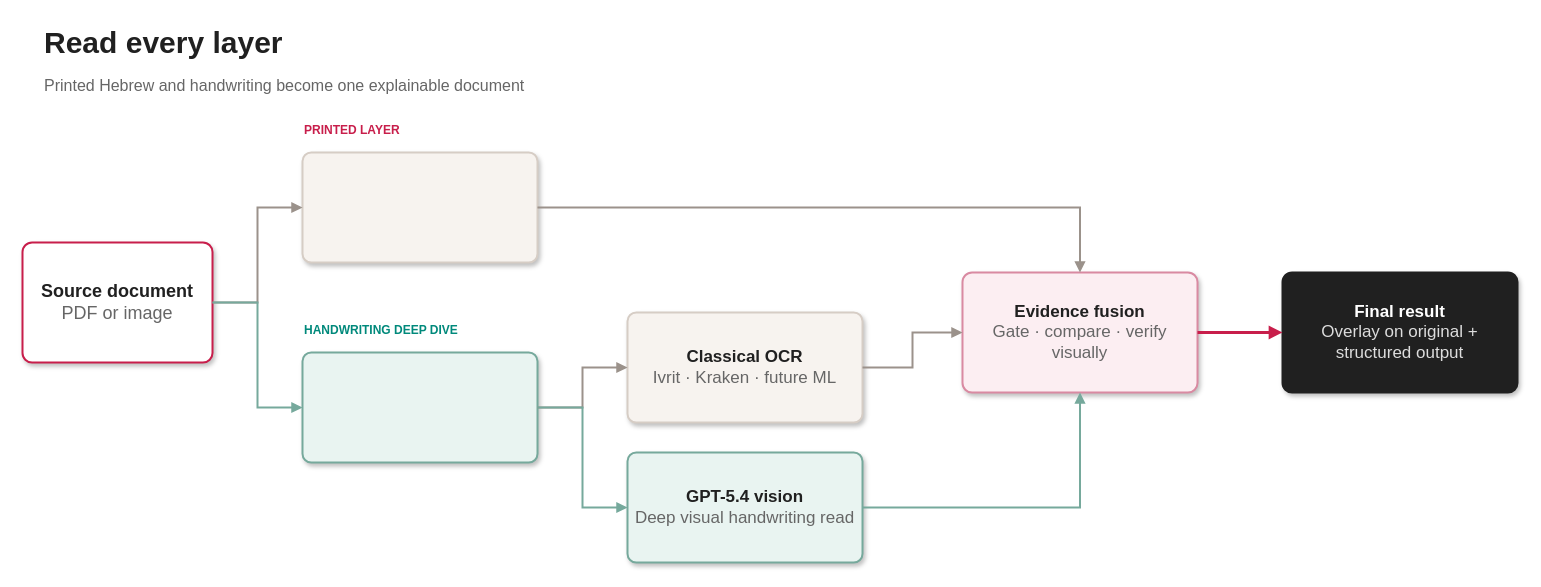
Image size: 1541x587. Some labels were removed from this diagram. The centre of each missing label's shape, as x and y in pixels:
"Content Understanding Printed Hebrew + layout" goes at (420,208).
"Detect + extract Handwriting regions + crops" goes at (420,408).
